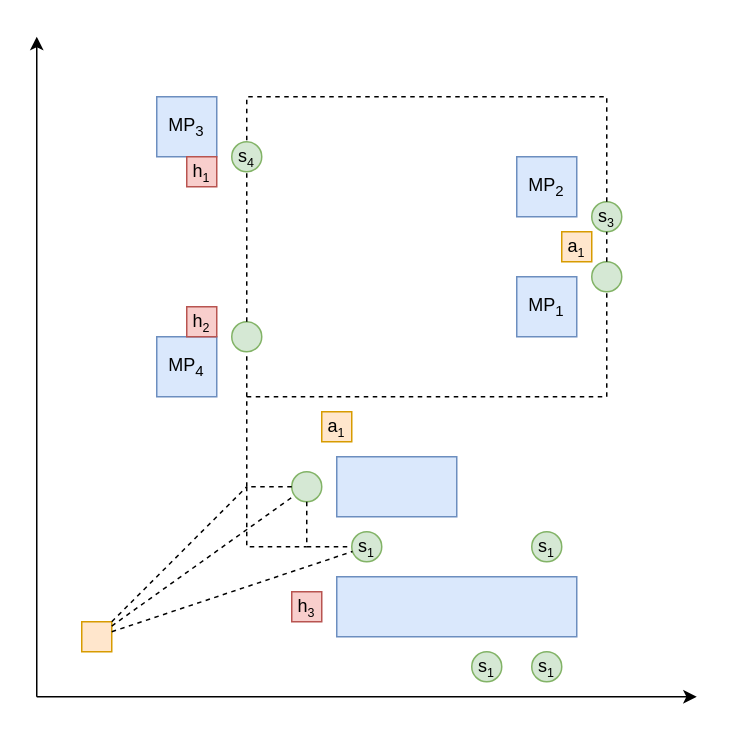
Some shapes in this 735 by 735 pixel diagram are drawn without their labels. The shapes that lost their labels are listed below. From the top down, each one's centre as x and y in pixels, then its label:
point 606,276: s 2
point 246,336: s 5
point 306,486: s 0
point 396,486: Stock
point 456,606: AP
point 96,636: a 2
